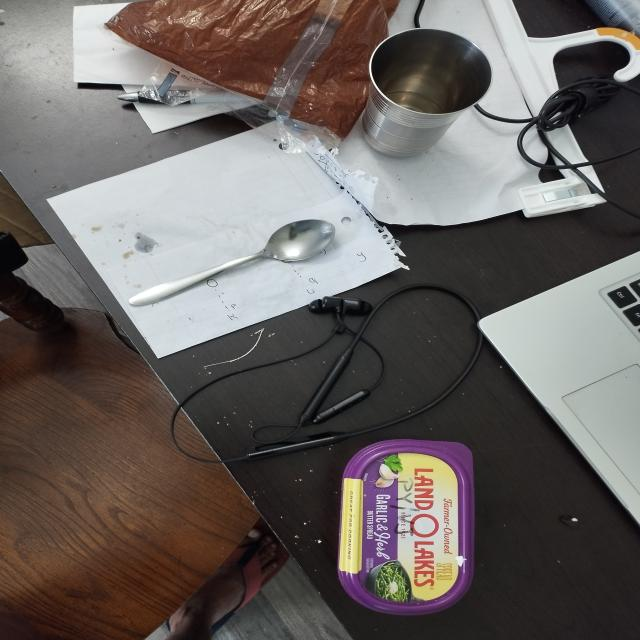Spoon: (110, 208, 345, 332)
